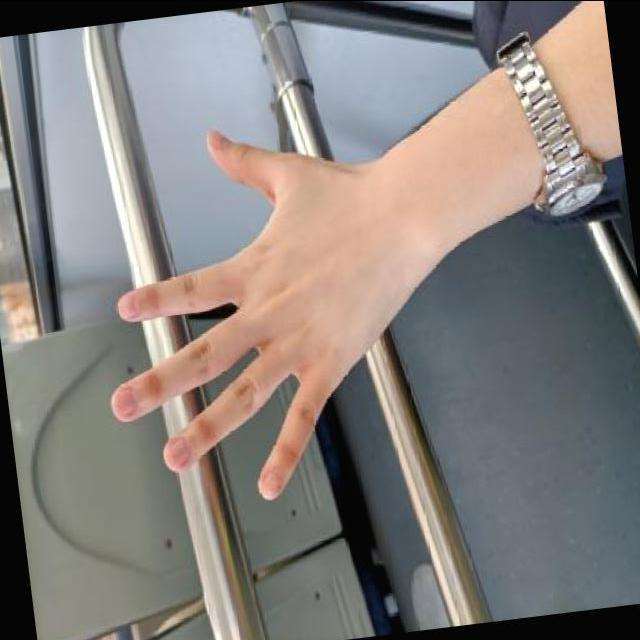hand: (107, 120, 460, 502)
